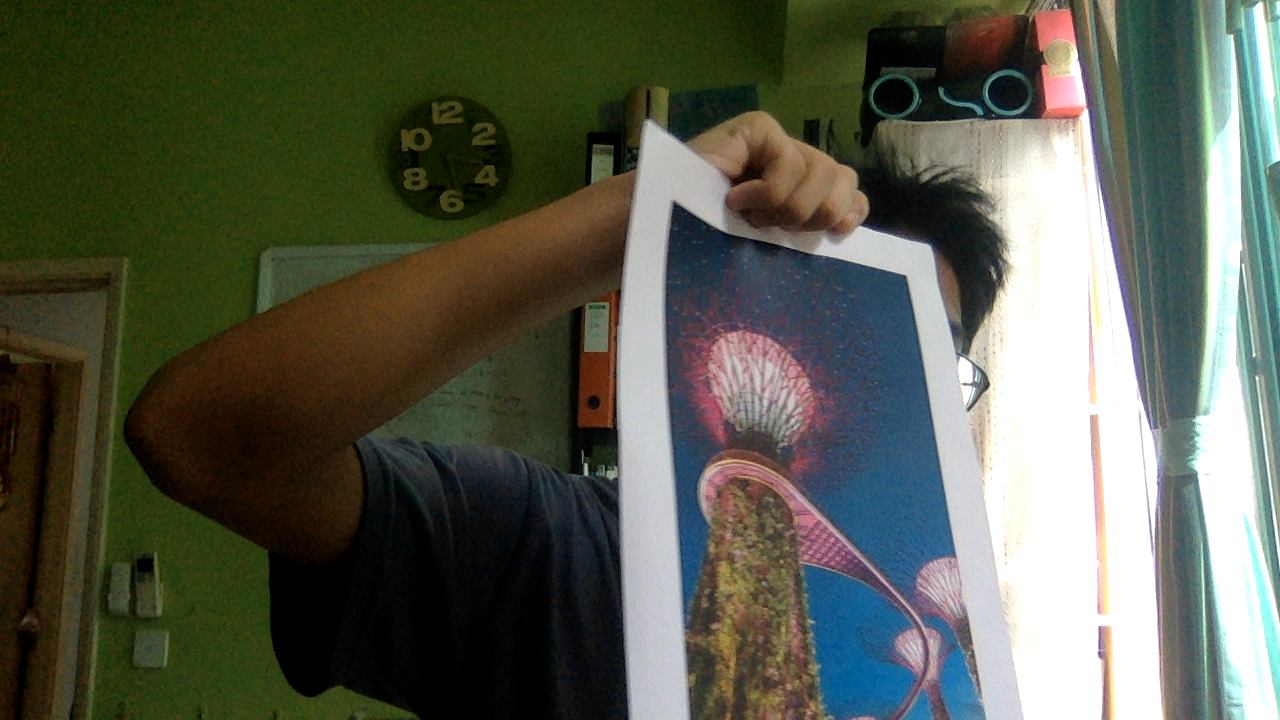GBTB: (658, 198, 996, 720)
